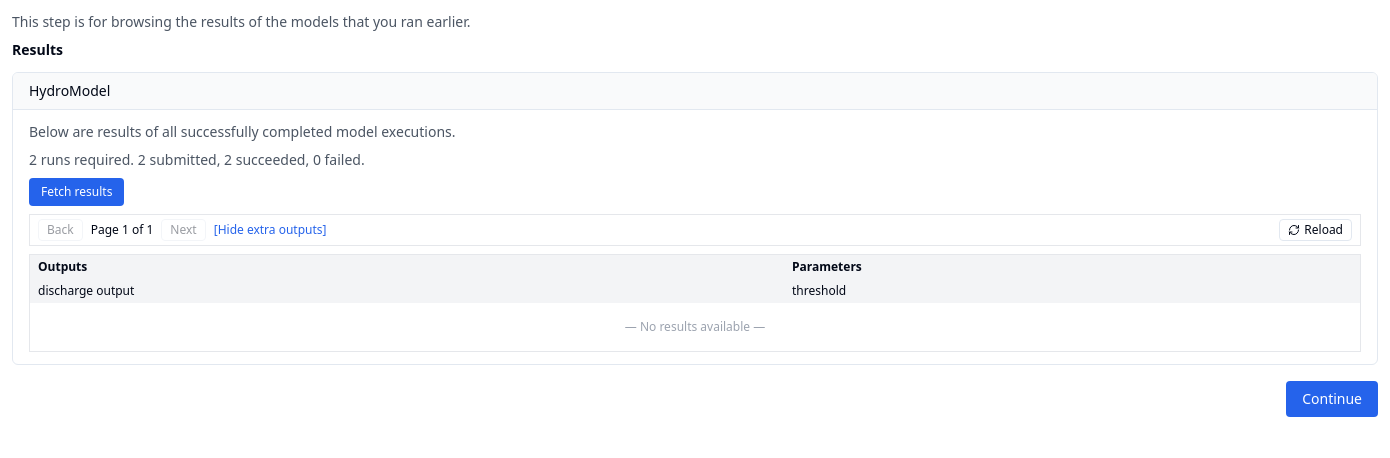
MintResults › shows the failure instead of dropping it
Click the button with test id "fetch-results-model-1". click: click(77, 192)
box: x1=29 y1=178 x2=124 y2=206
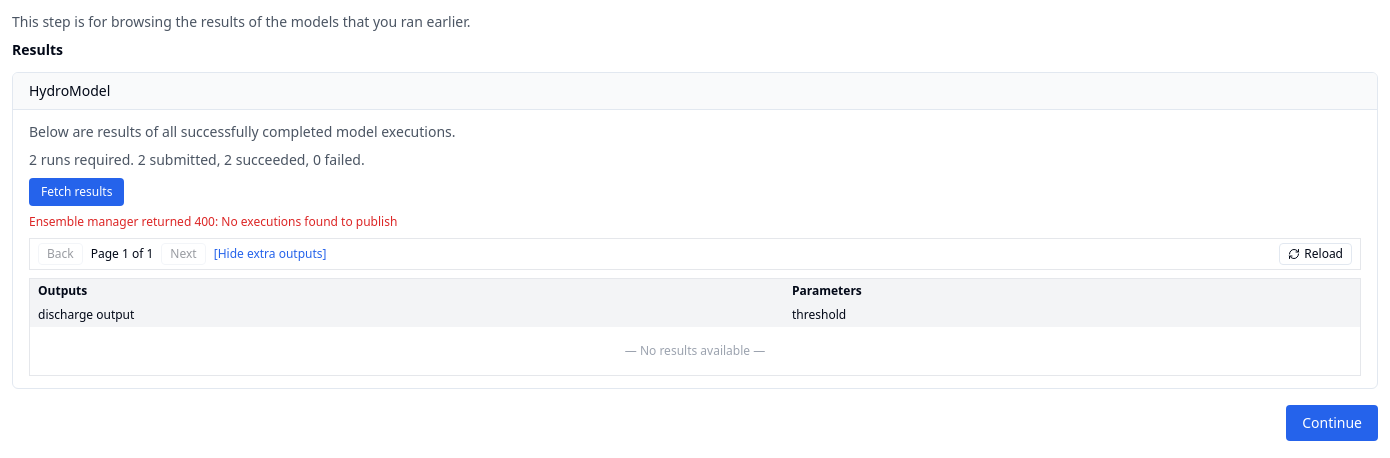
Expected: the message with test id "publish-error-model-1" shows "No executions found to publish", x1=29 y1=213 x2=397 y2=230
